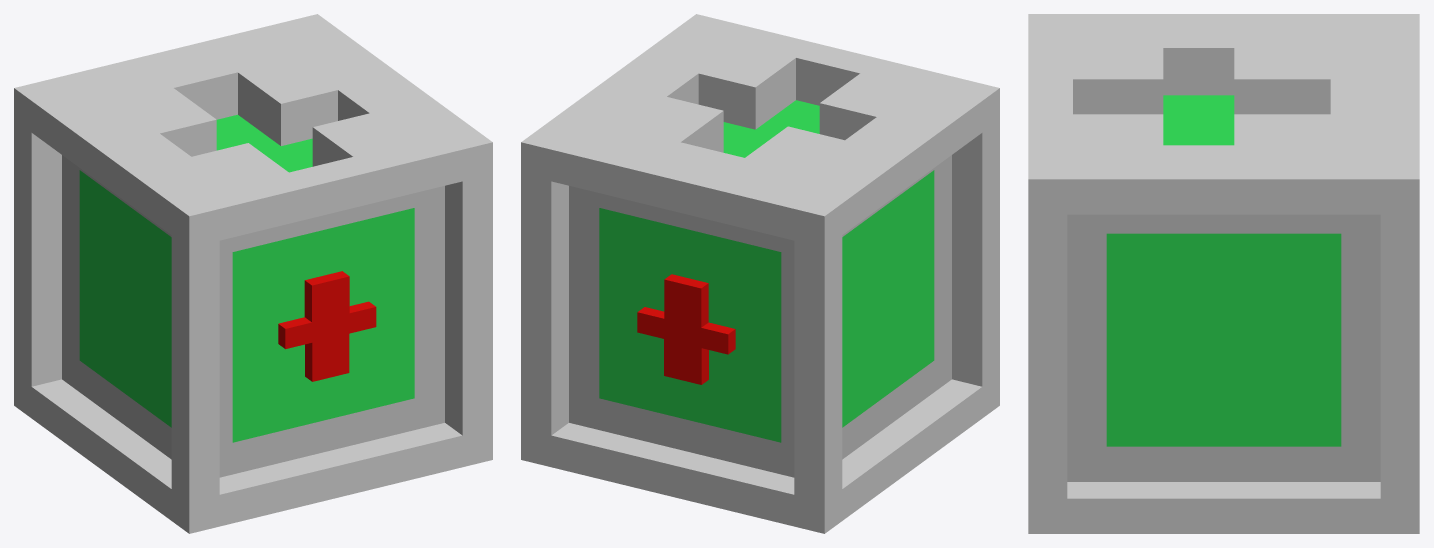
The model's file is pickupvida 1.fbx.
3 views of the same model, side by side, from view 1: azimuth 30°, elevation 25°; view 2: azimuth 150°, elevation 25°; view 3: azimuth 270°, elevation 25° (orthographic). The views are drawn at different scales.
Parts seen in each view (by area): view 1: Cube.002; view 2: Cube.002; view 3: Cube.002.
Boxes of the visible parts, bbox=[...] form: Cube.002: bbox=[14, 14, 492, 533]; Cube.002: bbox=[521, 14, 999, 533]; Cube.002: bbox=[1028, 14, 1419, 533].
Bounding box in the file's own units: 200 × 200 × 200.
